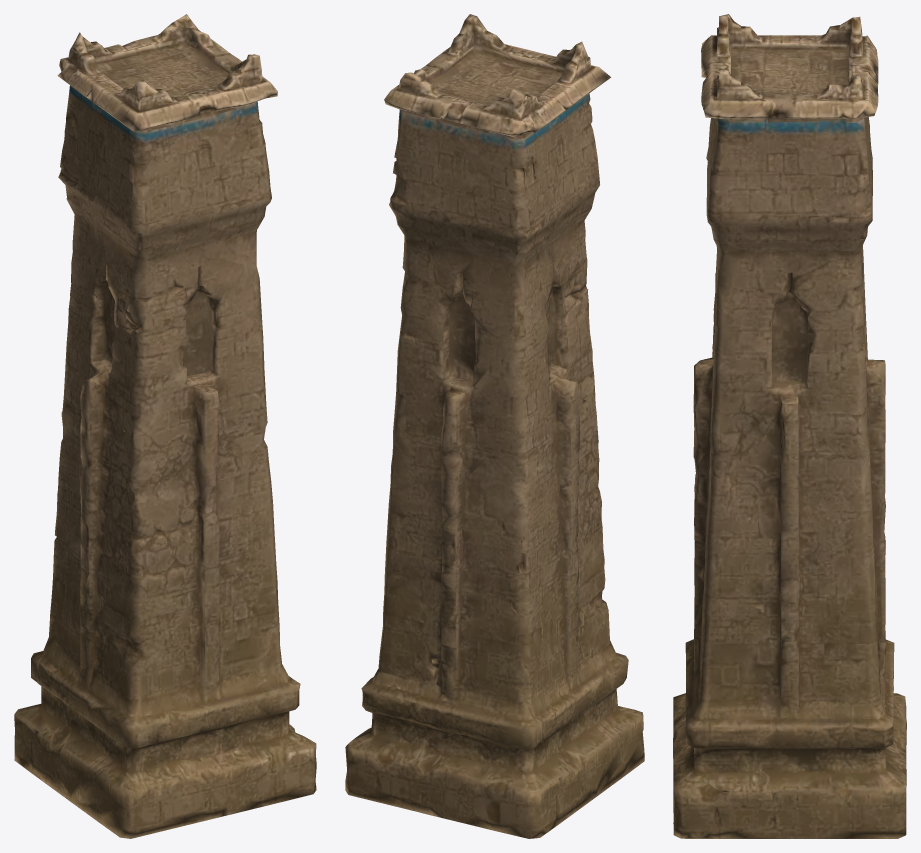
File: fortress-pillar.glb
The picture shows the model from 3 angles, left to right: view 1: azimuth 30°, elevation 25°; view 2: azimuth 150°, elevation 25°; view 3: azimuth 270°, elevation 25°; orthographic projection. The views are drawn at different scales.
Visible parts, largest first — view 1: DesertTemple_Wall_Tall_02_Wall_Tall_02_0; view 2: DesertTemple_Wall_Tall_02_Wall_Tall_02_0; view 3: DesertTemple_Wall_Tall_02_Wall_Tall_02_0.
Part boxes in pixels (x1,y1,x2,y2): DesertTemple_Wall_Tall_02_Wall_Tall_02_0: [14, 14, 316, 838]; DesertTemple_Wall_Tall_02_Wall_Tall_02_0: [345, 14, 644, 838]; DesertTemple_Wall_Tall_02_Wall_Tall_02_0: [673, 14, 906, 838].
Bounding box in the file's own units: 3.93 × 13.87 × 3.93.
Materials: 1 (1 with a texture image).
